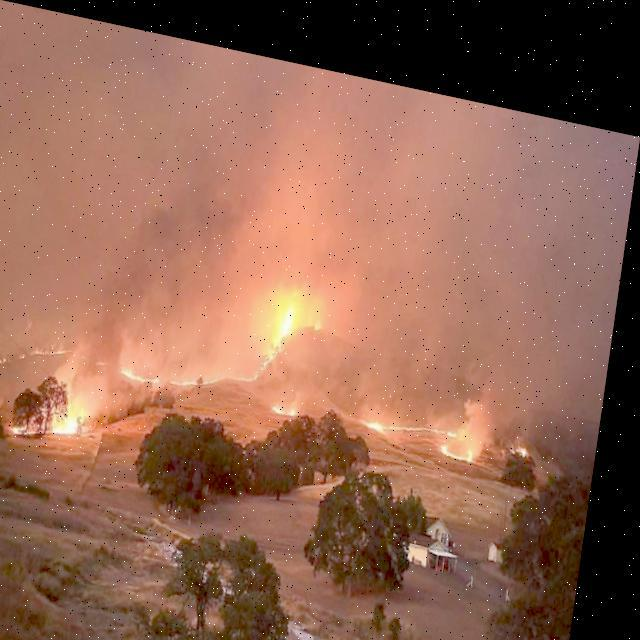Fire: (363, 380, 494, 448), (250, 261, 320, 363), (24, 362, 106, 444), (126, 346, 250, 388)
